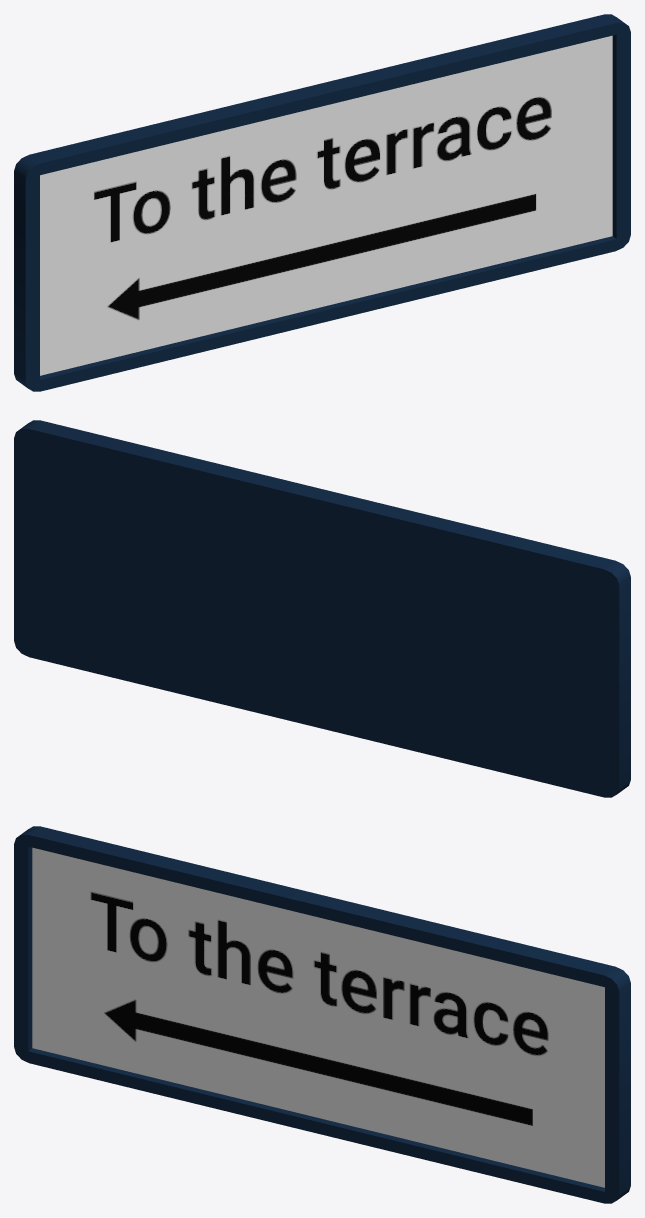
File: Pic du midi - To the terrace.fbx
3 views of the same model, one above another, from view 1: azimuth 30°, elevation 25°; view 2: azimuth 150°, elevation 25°; view 3: azimuth 330°, elevation 25° (orthographic).
Visible parts, largest first — view 1: CLIMSO; view 2: CLIMSO; view 3: CLIMSO.
Part boxes in pixels (left/top/right/bottom): CLIMSO: left=14, top=14, right=630, bottom=391; CLIMSO: left=14, top=420, right=630, bottom=797; CLIMSO: left=14, top=826, right=630, bottom=1203.
Bounding box in the file's own units: 415 × 149 × 13.93.
